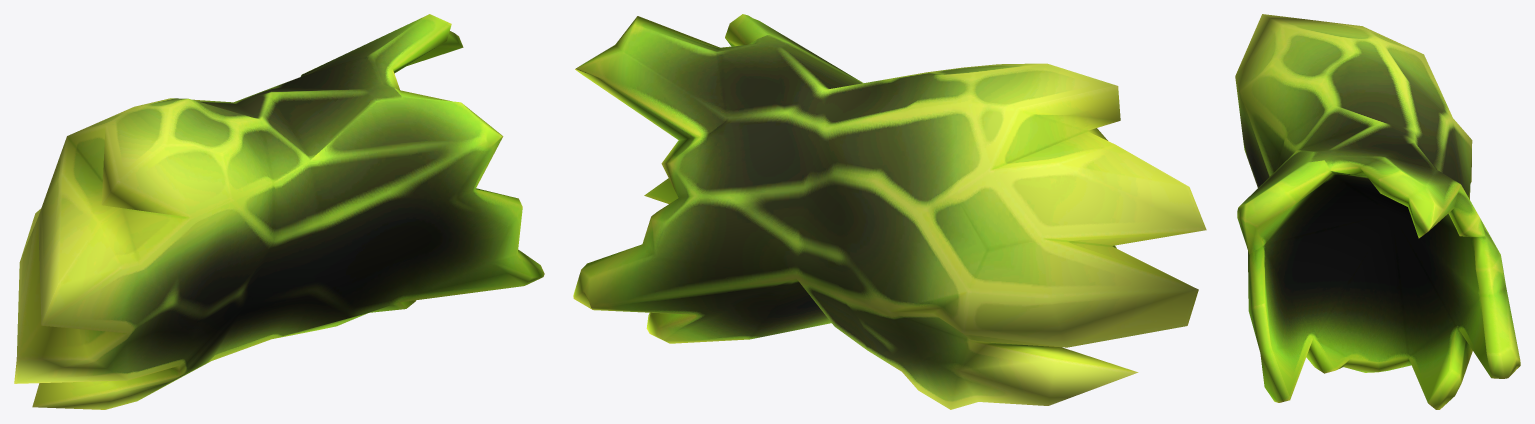
The model's file is item_weaknumgm2501-et04.glb.
3 renders of one model, left to right at view 1: azimuth 30°, elevation 25°; view 2: azimuth 150°, elevation 25°; view 3: azimuth 270°, elevation 25°, orthographic. The views are drawn at different scales.
Visible parts, largest first — view 1: FlyffMesh; view 2: FlyffMesh; view 3: FlyffMesh.
Boxes of the visible parts, x1=… form: FlyffMesh: x1=14, y1=14, x2=544, y2=409; FlyffMesh: x1=573, y1=14, x2=1206, y2=409; FlyffMesh: x1=1235, y1=14, x2=1520, y2=409.
Size of the model in its own units: 0.6683 by 0.3619 by 0.3364.
Materials: 1 (1 with a texture image).
